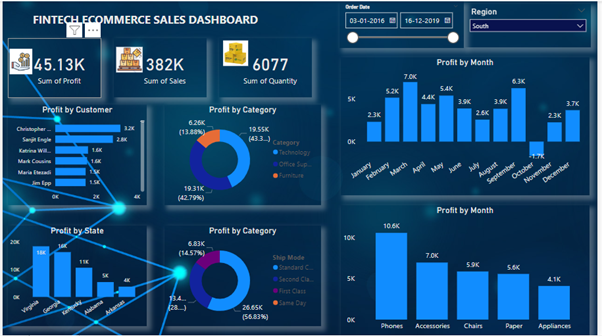

This screenshot's page, from the dashboard's own definition file:
{"tool":"powerbi","page":{"name":"Page 1","canvas":[1280,720],"ordinal":0},"visuals":[{"type":"textbox","box":[39.7,17,535.7,49.6],"z":0},{"type":"columnChart","title":" Profit by Month","fields":{"Category":["Orders.Order Date.Variation.Date Hierarchy.Year","Orders.Order Date.Variation.Date Hierarchy.Quarter","Orders.Order Date.Variation.Date Hierarchy.Month","Orders.Order Date.Variation.Date Hierarchy.Day"],"Y":["Sum(Orders.Profit)"]},"box":[728.5,120.5,535.7,297.6],"z":1000},{"type":"columnChart","title":" Profit by Month","fields":{"Y":["Sum(Orders.Profit)"],"Category":["Orders.Sub-Category"]},"box":[728.5,439.4,535.7,280.6],"z":2000},{"type":"card","fields":{"Values":["Sum(Orders.Profit)"]},"box":[11.6,80,201.3,127.7],"z":3000},{"type":"card","fields":{"Values":["Sum(Orders.Sales)"]},"box":[240,80,200,127.7],"z":4000},{"type":"card","fields":{"Values":["Sum(Orders.Quantity)"]},"box":[465.8,80,200,127.7],"z":5000},{"type":"slicer","fields":{"Values":["Orders.Order Date"]},"box":[725.5,0,268,99.8],"z":6000},{"type":"slicer","fields":{"Values":["Orders.Region"]},"box":[996.3,5.7,270.8,94.1],"z":7000},{"type":"donutChart","title":"Profit by Category","fields":{"Y":["Sum(Orders.Profit)"],"Category":["Orders.Category"]},"box":[348.7,222.5,337.3,216.9],"z":8000},{"type":"donutChart","title":"Profit by Category","fields":{"Y":["Sum(Orders.Profit)"],"Category":["Orders.Ship Mode"]},"box":[348.7,483.3,337.3,216.9],"z":9000},{"type":"clusteredBarChart","title":" Profit by Customer","fields":{"Y":["Sum(Orders.Profit)"],"Category":["Orders.Customer Name"]},"box":[11.3,222.5,299.1,216.9],"z":10000},{"type":"columnChart","title":"Profit by State","fields":{"Y":["Sum(Orders.Profit)"],"Category":["Orders.State"]},"box":[11.3,483.3,299.1,216.9],"z":11000},{"type":"image","box":[10.3,89,59.4,81.3],"z":12000},{"type":"image","box":[240,89,67.1,72.3],"z":13000},{"type":"image","box":[455.5,80,92.9,64.5],"z":14000}]}

Visuals, with their boxes in screenshot pixels (x1, y1, x2, y2), scaled from the page's 1280x720 canvas onto the 602x336 screenshot:
textbox: <region>19, 8, 271, 31</region>
" Profit by Month" columnChart: <region>343, 56, 595, 195</region>
" Profit by Month" columnChart: <region>343, 205, 595, 335</region>
card - Sum(Orders.Profit): <region>5, 37, 100, 97</region>
card - Sum(Orders.Sales): <region>113, 37, 207, 97</region>
card - Sum(Orders.Quantity): <region>219, 37, 313, 97</region>
slicer - Orders.Order Date: <region>341, 0, 467, 47</region>
slicer - Orders.Region: <region>469, 3, 596, 47</region>
"Profit by Category" donutChart: <region>164, 104, 323, 205</region>
"Profit by Category" donutChart: <region>164, 226, 323, 327</region>
" Profit by Customer" clusteredBarChart: <region>5, 104, 146, 205</region>
"Profit by State" columnChart: <region>5, 226, 146, 327</region>
image: <region>5, 42, 33, 79</region>
image: <region>113, 42, 144, 75</region>
image: <region>214, 37, 258, 67</region>
